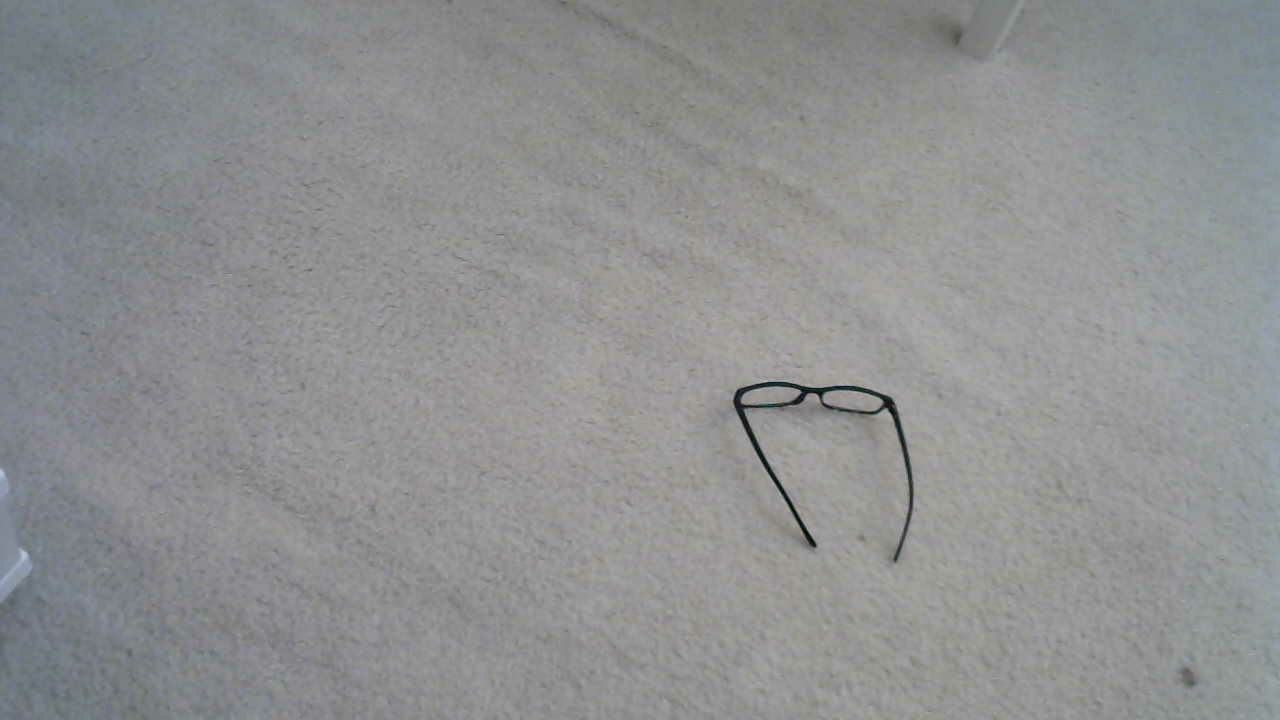Glasses: (695, 364, 935, 590)
